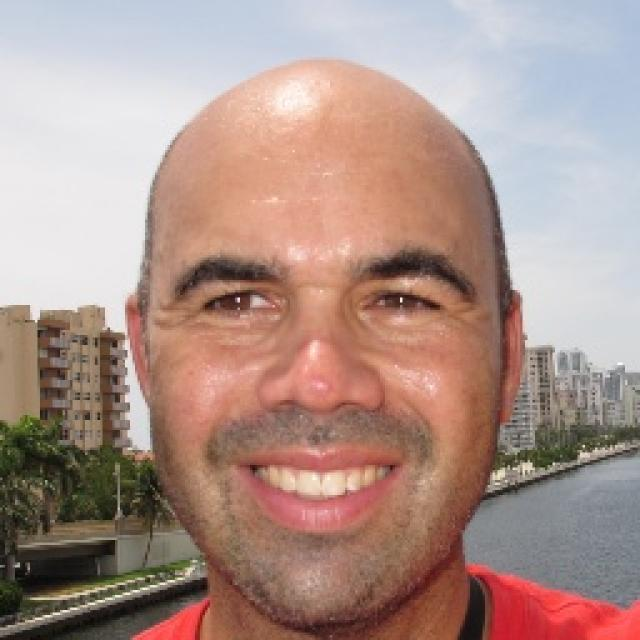earlobe: (494, 396, 516, 426), (141, 382, 157, 408)
eye: (201, 290, 281, 320), (368, 288, 439, 316)
nose: (263, 396, 382, 439)
wholeear: (491, 288, 529, 426), (125, 297, 158, 411)
